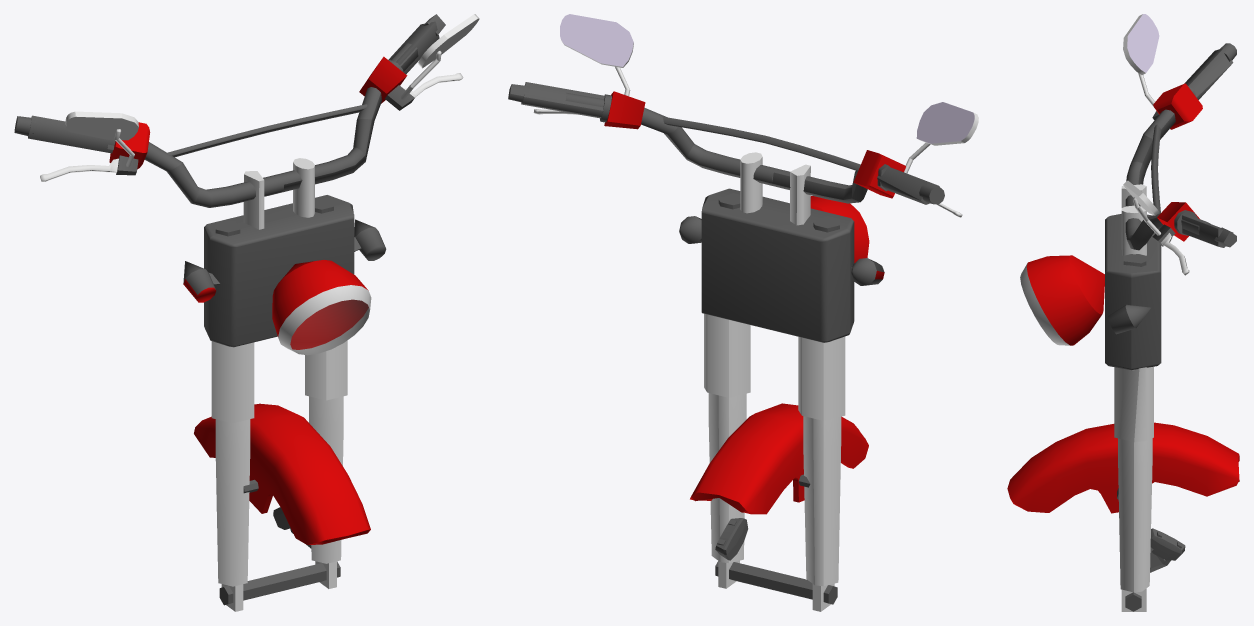
File: bike_chop_front_suspension.fbx
The picture shows the model from 3 angles, left to right: view 1: azimuth 30°, elevation 25°; view 2: azimuth 150°, elevation 25°; view 3: azimuth 270°, elevation 25°; orthographic projection. The views are drawn at different scales.
Visible parts, largest first — view 1: polySurface242; view 2: polySurface242; view 3: polySurface242.
Part boxes in pixels (x1,y1,x2,y2): polySurface242: (14, 14, 479, 611); polySurface242: (508, 14, 978, 611); polySurface242: (1007, 14, 1239, 611).
Bounding box in the file's own units: 94.86 × 111 × 48.2.
